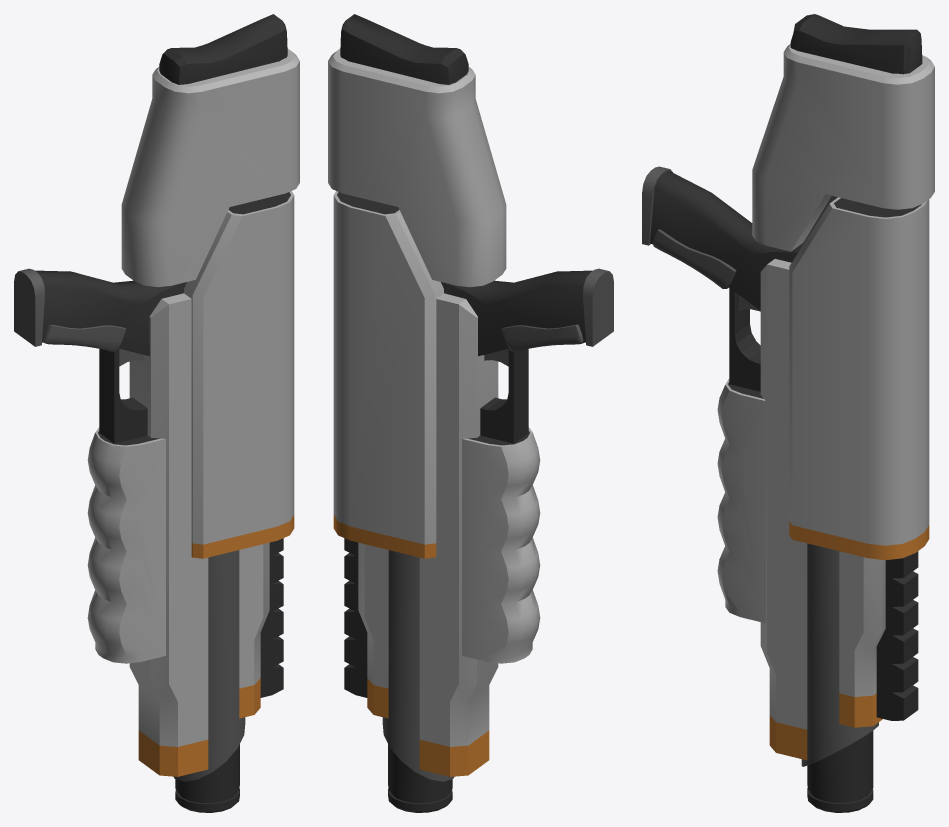
The model's file is qg-grenade-3-lod1.glb.
The picture shows the model from 3 angles, left to right: view 1: azimuth 30°, elevation 25°; view 2: azimuth 150°, elevation 25°; view 3: azimuth 330°, elevation 25°; orthographic projection. The views are drawn at different scales.
Parts seen in each view (by area): view 1: WeaponMesh_qg-grenade-3_Grenade_2; view 2: WeaponMesh_qg-grenade-3_Grenade_2; view 3: WeaponMesh_qg-grenade-3_Grenade_2.
Part boxes in pixels (box(x1,y1,x2,y2)): WeaponMesh_qg-grenade-3_Grenade_2: box(14, 14, 299, 812); WeaponMesh_qg-grenade-3_Grenade_2: box(328, 14, 613, 812); WeaponMesh_qg-grenade-3_Grenade_2: box(642, 14, 934, 812).
Bounding box in the file's own units: 0.1536 × 0.42 × 0.0423.
